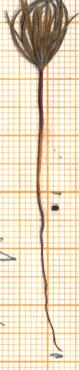flower: (0, 0, 79, 73)
root: (35, 209, 63, 355)
stem: (29, 73, 49, 209)
